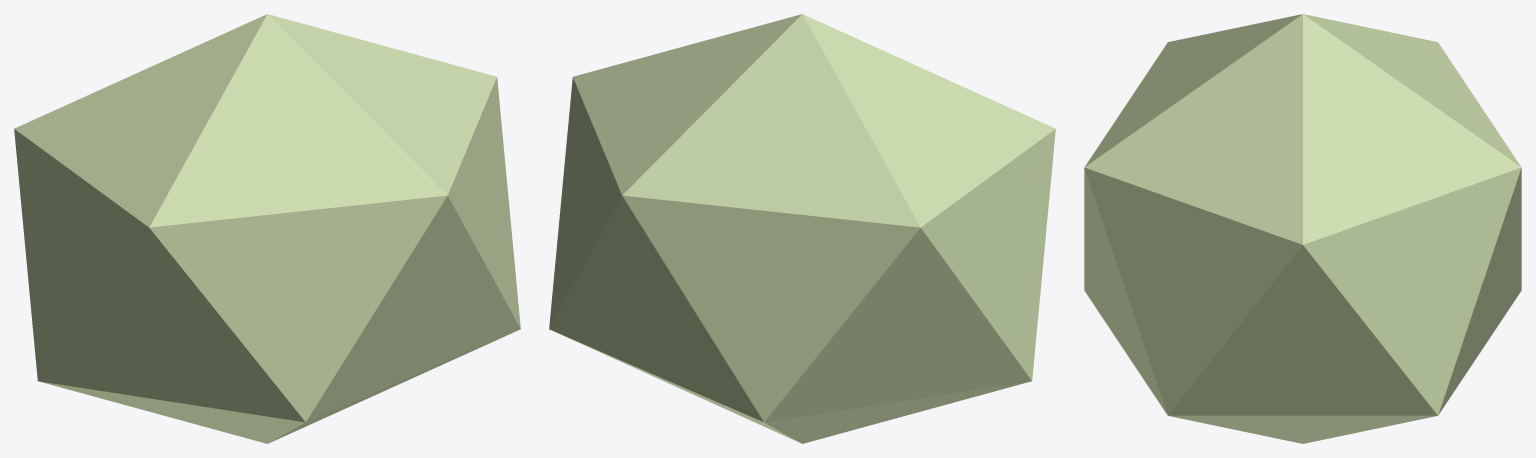
File: bush.glb
3 views of the same model, side by side, from view 1: azimuth 30°, elevation 25°; view 2: azimuth 150°, elevation 25°; view 3: azimuth 270°, elevation 25° (orthographic).
Parts seen in each view (by area): view 1: bush__shrub; view 2: bush__shrub; view 3: bush__shrub.
Part boxes in pixels (bbox=[...]): bush__shrub: bbox=[14, 14, 520, 443]; bush__shrub: bbox=[549, 14, 1055, 443]; bush__shrub: bbox=[1084, 14, 1521, 443].
Bounding box in the file's own units: 2.68 × 2.4 × 2.21.
